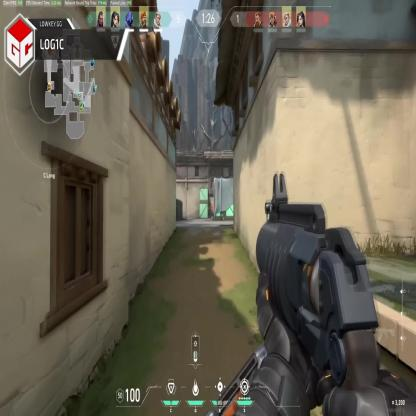enemy: (211, 201, 214, 219)
enemy_head: (211, 201, 213, 205)
